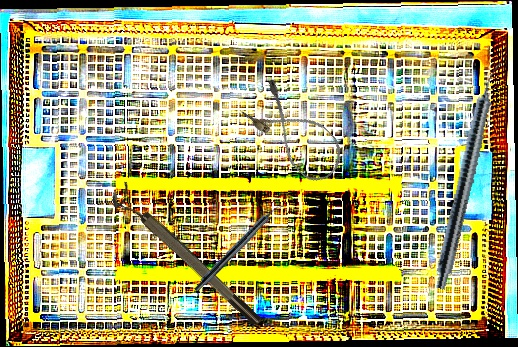Cannula: (238, 76, 353, 190)
Fixation Ring: (106, 180, 266, 336)
Handpiece: (432, 59, 505, 292), (192, 198, 287, 295)
